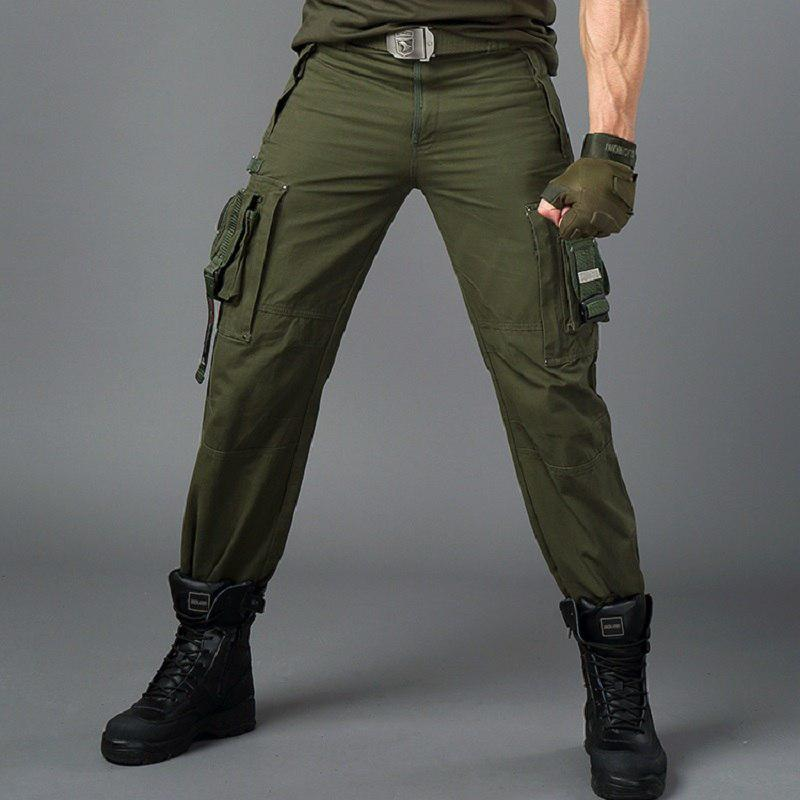pants: (184, 39, 652, 603)
